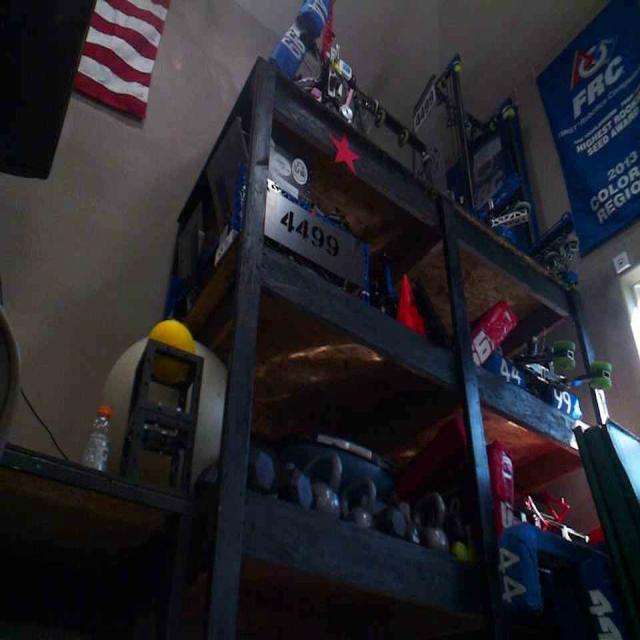star_red: (329, 132, 360, 172)
